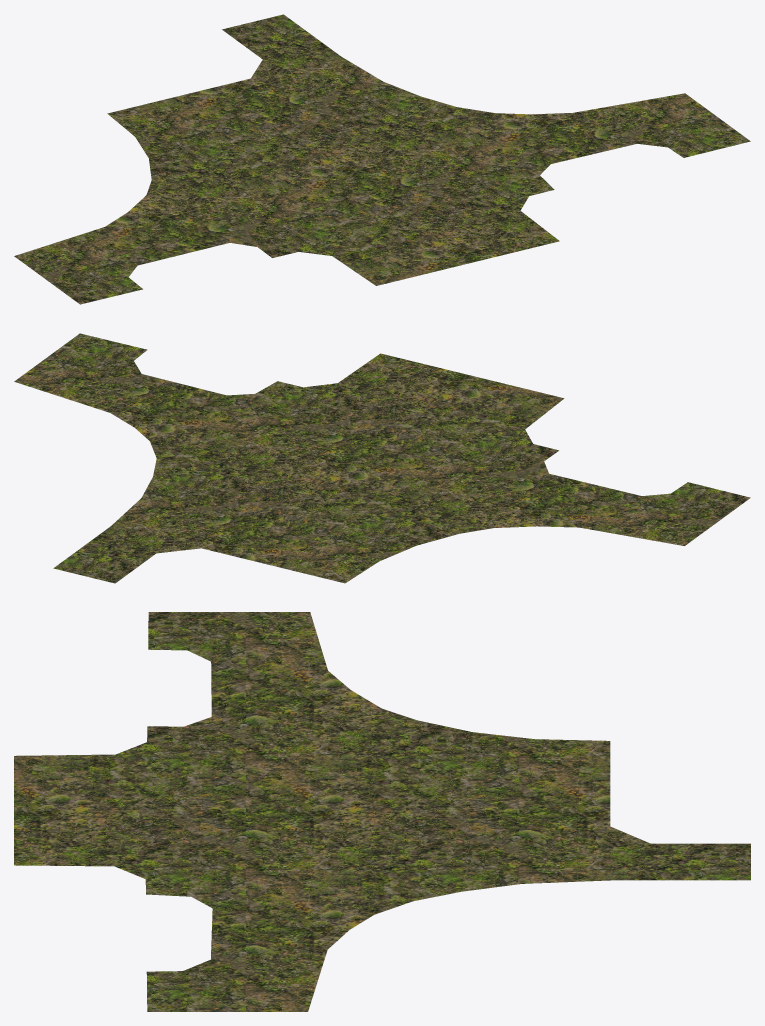
Rendered from Planter_DirtPlane_Unique01.FBX.
3 views of the same model, one above another, from view 1: azimuth 30°, elevation 25°; view 2: azimuth 150°, elevation 25°; view 3: azimuth 270°, elevation 25° (orthographic). The views are drawn at different scales.
Parts seen in each view (by area): view 1: Planter_DirtPlane_Unique01; view 2: Planter_DirtPlane_Unique01; view 3: Planter_DirtPlane_Unique01.
Part boxes in pixels (x1=…): Planter_DirtPlane_Unique01: x1=14, y1=14, x2=750, y2=304; Planter_DirtPlane_Unique01: x1=14, y1=333, x2=750, y2=583; Planter_DirtPlane_Unique01: x1=14, y1=612, x2=750, y2=1011.
Bounding box in the file's own units: 13.84 × 3.06e-15 × 10.79.
